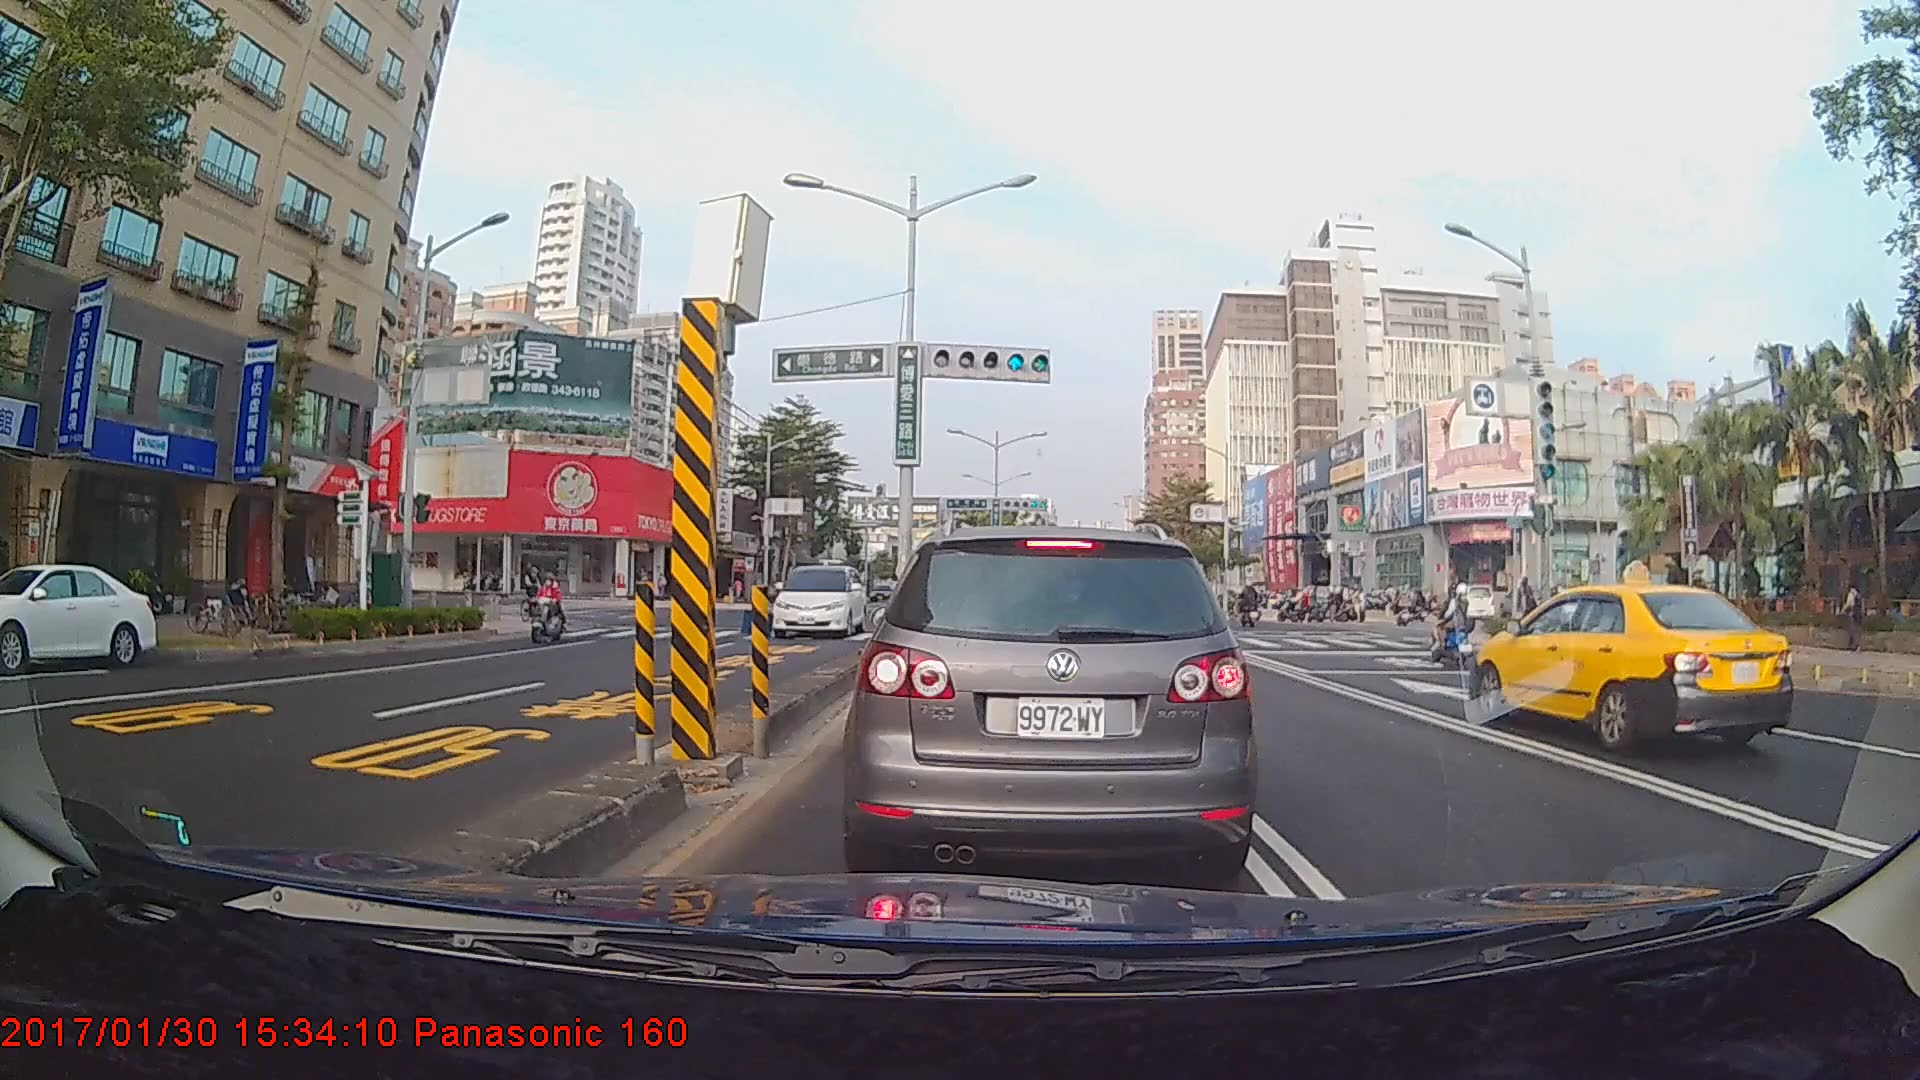pedestrian: (1839, 579, 1866, 652)
rider: (1428, 580, 1481, 670), (531, 572, 579, 647), (518, 559, 561, 629), (1236, 580, 1268, 630)
vehicle: (852, 520, 1252, 884), (1469, 577, 1796, 754), (0, 561, 159, 671), (769, 561, 868, 638)
